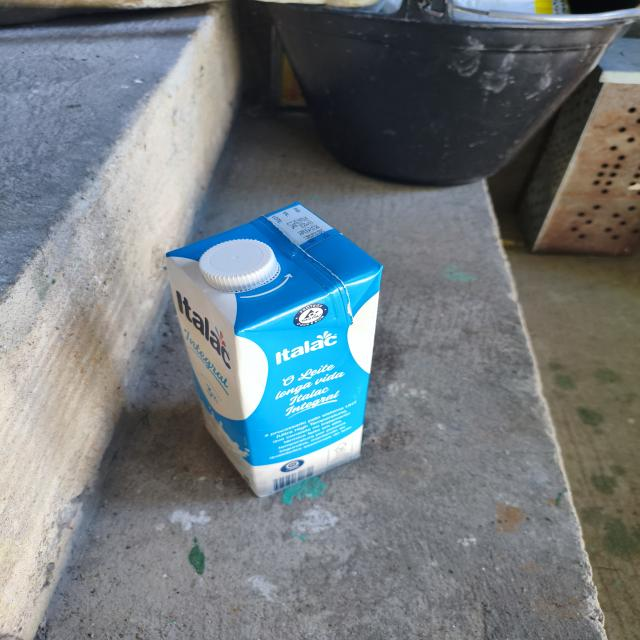Caixa de Leite: (140, 198, 396, 500)
